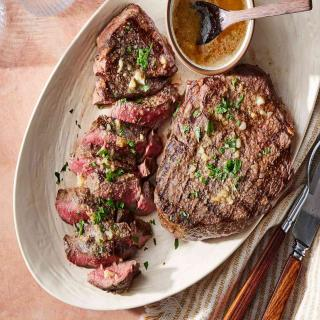meat: (156, 80, 296, 232), (59, 107, 160, 290), (90, 8, 177, 103)
steak: (27, 0, 300, 297)
